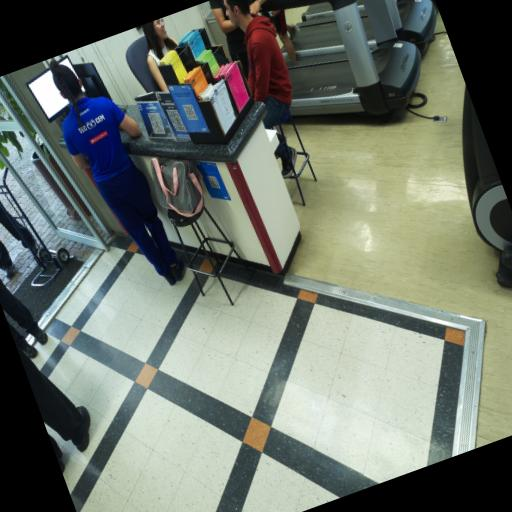person: (50, 61, 184, 284), (224, 0, 297, 178), (19, 353, 90, 451), (0, 277, 48, 344), (210, 0, 249, 78), (142, 18, 178, 91), (0, 205, 36, 248), (270, 10, 298, 61)
